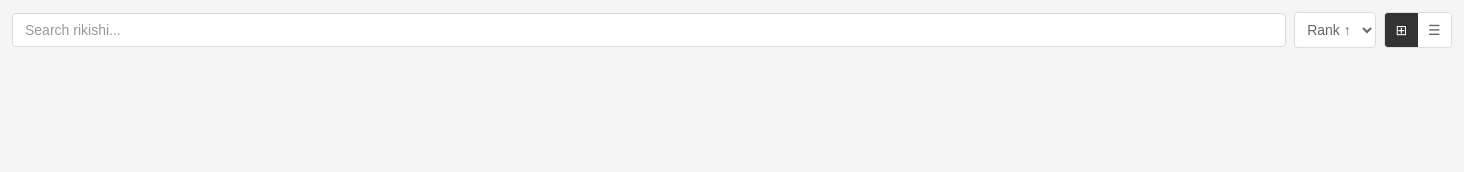
Test case: BanzukeTab › clears search when clear button is clicked
In the field with placeholder "Search rikishi...": (649, 30) [12,13,1286,47], type "test"
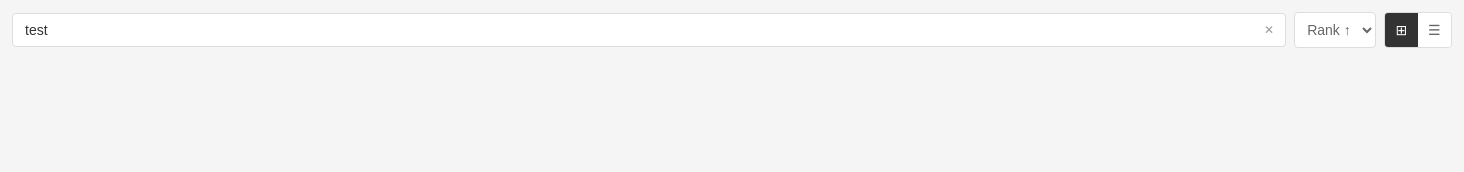
Click the button named "Clear search": click(1269, 30) [1260,20,1278,40]
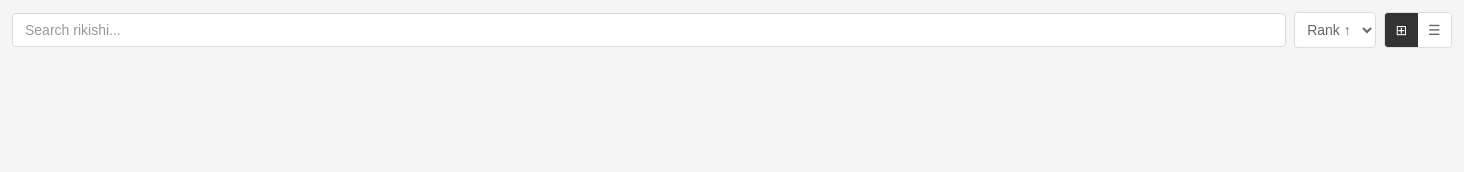
Expected: the field with placeholder "Search rikishi..." is empty, [12,13,1286,47]
